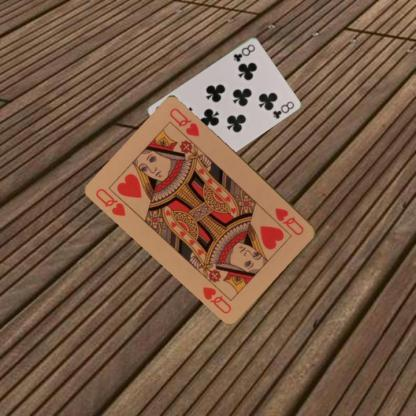8c: (230, 42, 256, 63)
Qh: (93, 185, 127, 218), (272, 205, 306, 237)
